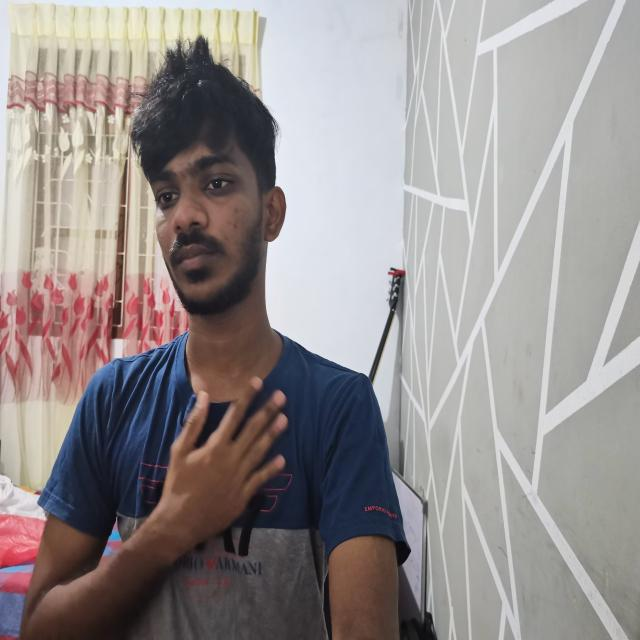Please: (0, 369, 292, 635)
